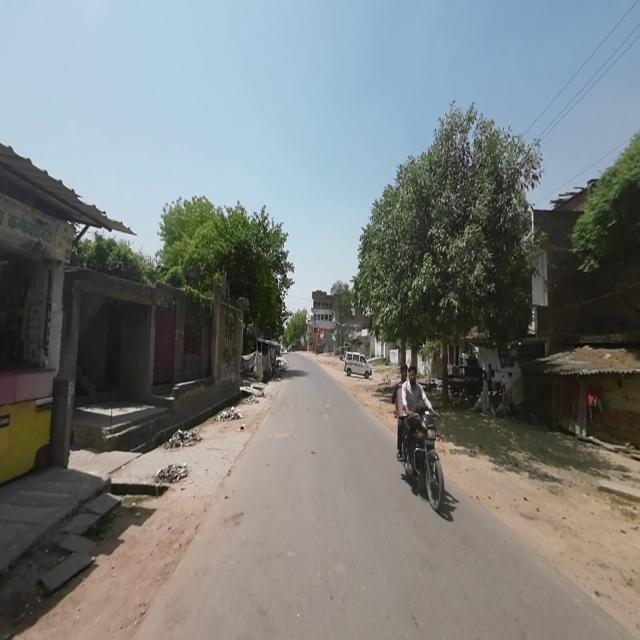Garbage: (167, 428, 202, 449), (154, 464, 189, 482)
